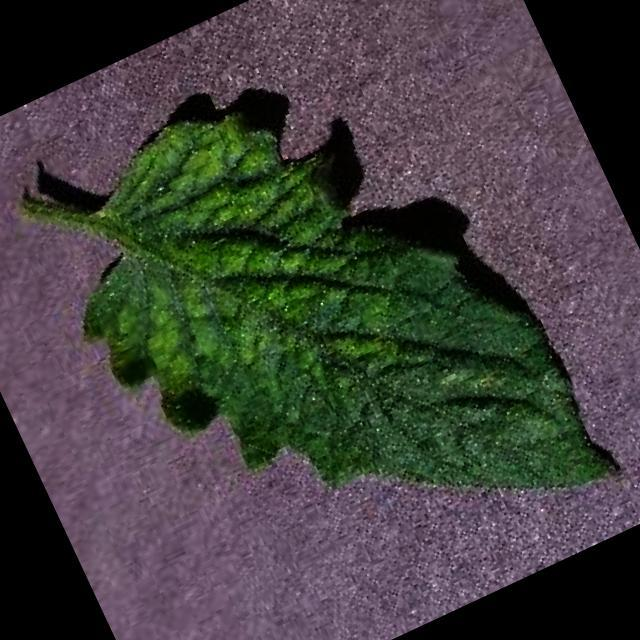Tomato mosaic virus leaf: (18, 15, 624, 640)
